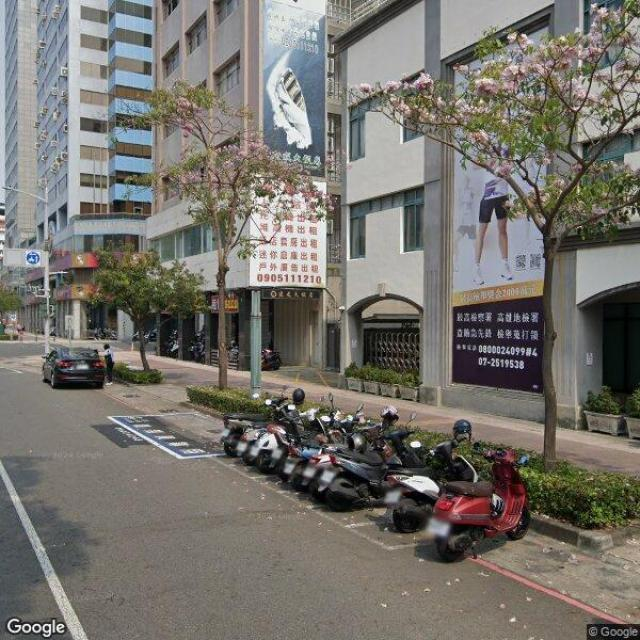Legalparking: (216, 389, 528, 558)
illegalparking: (42, 349, 116, 392)
